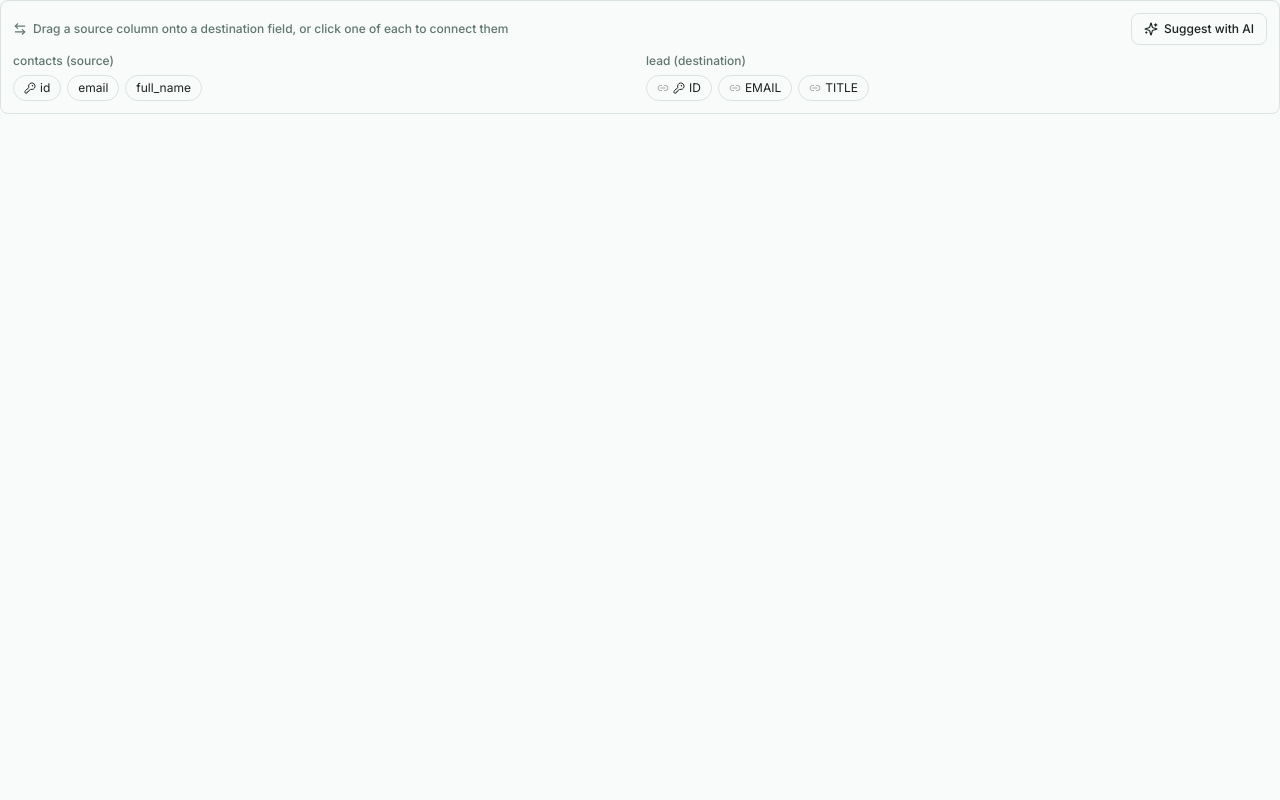
MappingBoard › AI suggestions › applies suggested pairs above the confidence threshold
Step 1. Click the button "Suggest with AI" → [1199, 29], box left=1131, top=13, right=1267, bottom=45
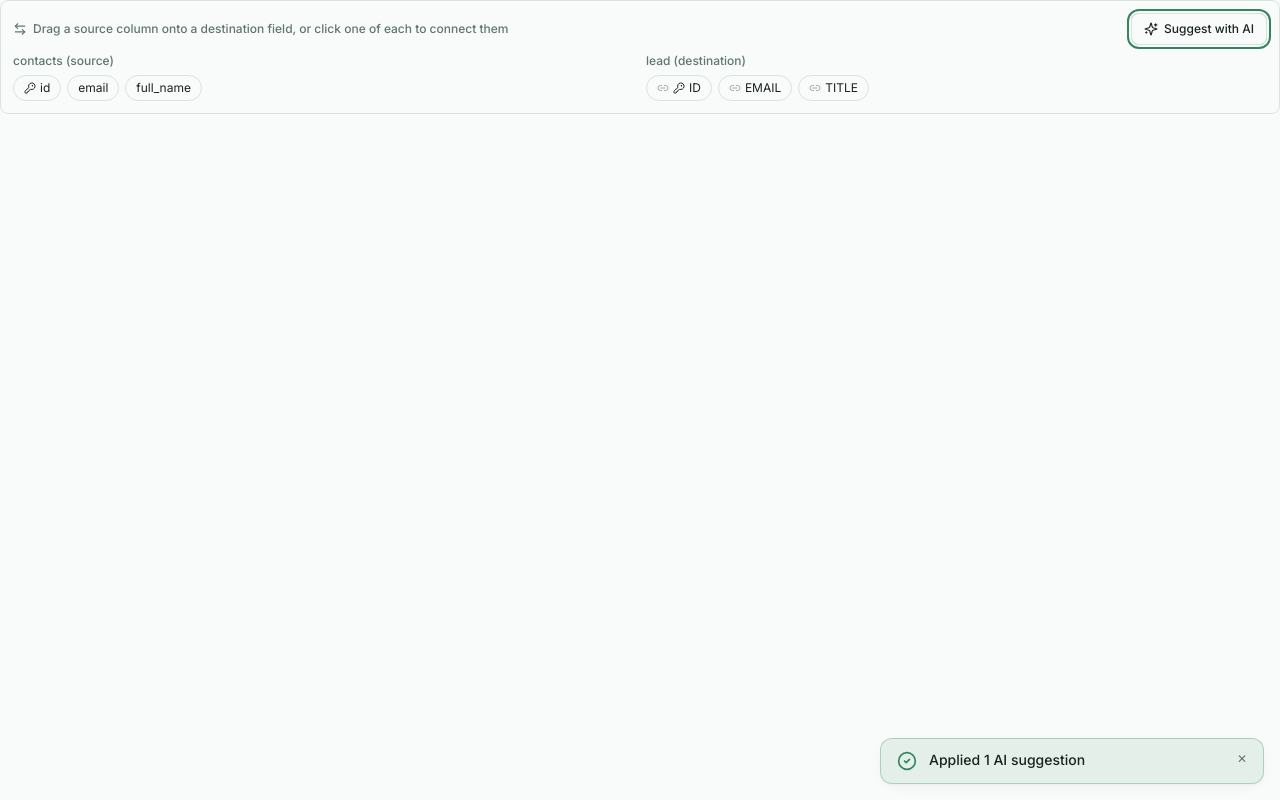
Now the text "Applied 1 AI suggestion" is shown, box left=929, top=751, right=1085, bottom=768
